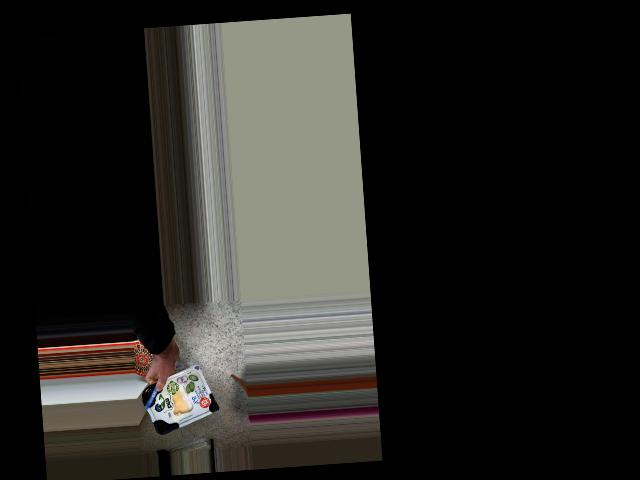cheese: (148, 370, 212, 422)
